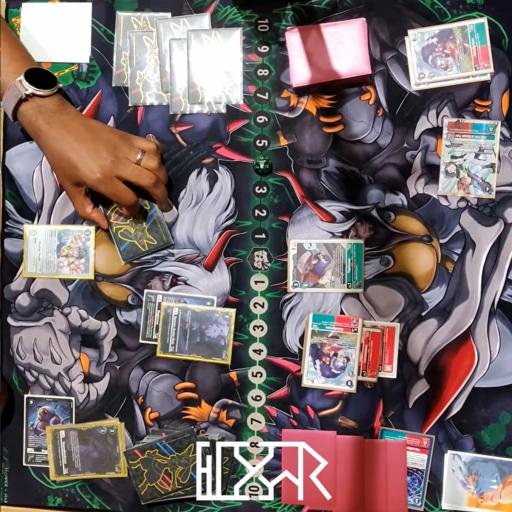card: (407, 16, 493, 86), (48, 416, 129, 488), (433, 119, 503, 196), (376, 425, 434, 512), (299, 312, 358, 393), (22, 222, 98, 282), (286, 240, 365, 294), (156, 307, 234, 361), (138, 294, 216, 346), (21, 397, 72, 469), (356, 325, 384, 383), (382, 321, 400, 382)
